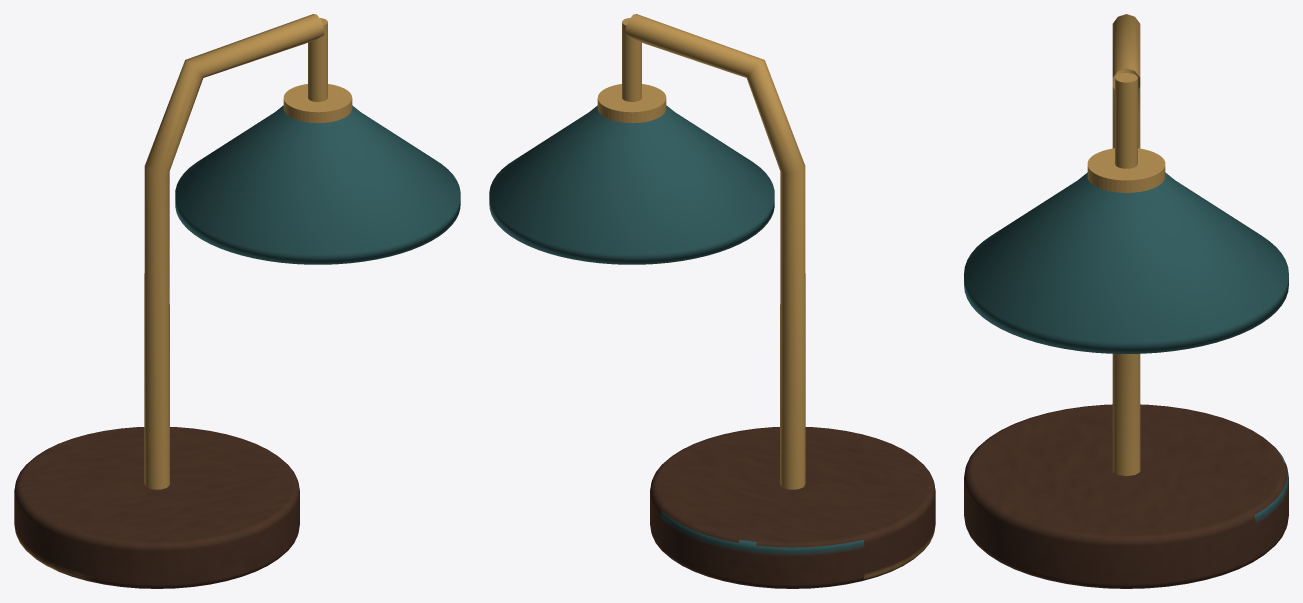
3 renders of one model, left to right at view 1: azimuth 30°, elevation 25°; view 2: azimuth 150°, elevation 25°; view 3: azimuth 270°, elevation 25°, orthographic. The views are drawn at different scales.
Visible parts, largest first — view 1: Lamp foot, Shade, Swan neck, Shade suspension cap, Shade suspension stem; view 2: Lamp foot, Shade, Swan neck, Shade suspension cap, Shade suspension stem; view 3: Lamp foot, Shade, Swan neck, Shade suspension cap, Shade suspension stem.
Part boxes in pixels (x1=…): Lamp foot: x1=14, y1=427, x2=299, y2=588; Shade: x1=175, y1=105, x2=460, y2=264; Swan neck: x1=144, y1=14, x2=324, y2=489; Shade suspension cap: x1=283, y1=84, x2=352, y2=123; Shade suspension stem: x1=308, y1=18, x2=327, y2=101; Lamp foot: x1=650, y1=427, x2=935, y2=588; Shade: x1=489, y1=105, x2=774, y2=264; Swan neck: x1=625, y1=14, x2=805, y2=489; Shade suspension cap: x1=597, y1=84, x2=666, y2=123; Shade suspension stem: x1=622, y1=18, x2=641, y2=101; Lamp foot: x1=964, y1=404, x2=1288, y2=588; Shade: x1=964, y1=172, x2=1288, y2=353; Swan neck: x1=1112, y1=14, x2=1140, y2=476; Shade suspension cap: x1=1087, y1=148, x2=1165, y2=192; Shade suspension stem: x1=1115, y1=73, x2=1137, y2=168.
Size of the model in its own units: 0.33 by 0.369 by 0.2.
4 materials, 1 textured.
